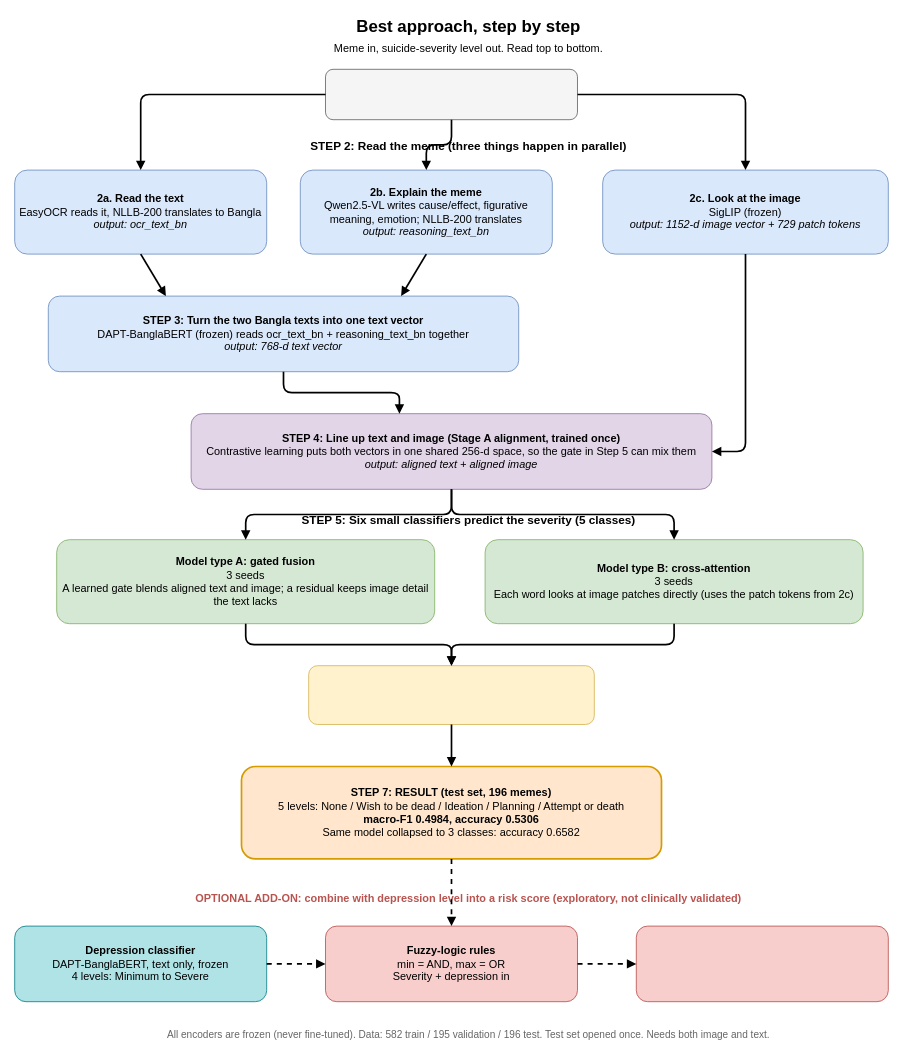
The diagram is 903 pixels wide and 1062 high, and some of its shapes have lost their labels. Each missing label, with the centre of its shape:
Final risk level Minimal / Low / Elevated / Critical: (x=761, y=963)
STEP 1: Input Bangla meme (image with text): (x=451, y=94)
STEP 6: Majority vote The most common answer among the 6 models wins: (x=451, y=694)
